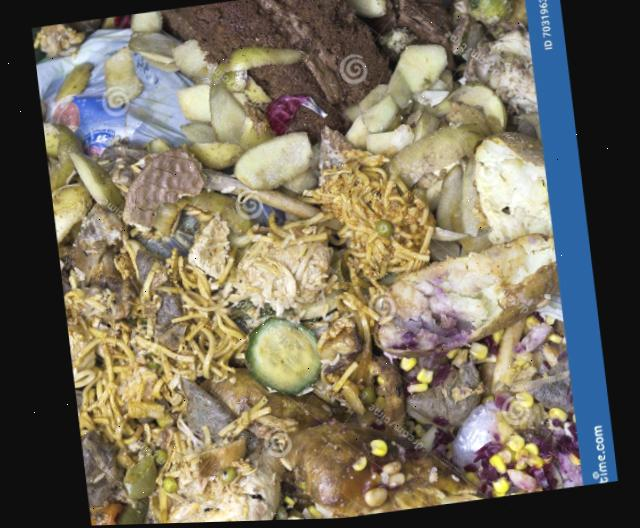Garbage: (30, 0, 581, 526)
contaminated_waste: (39, 31, 196, 161)
